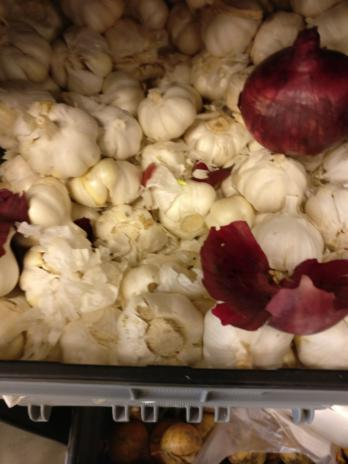Garlic: (2, 0, 203, 366), (185, 156, 348, 257), (168, 0, 348, 44), (186, 326, 348, 371)
